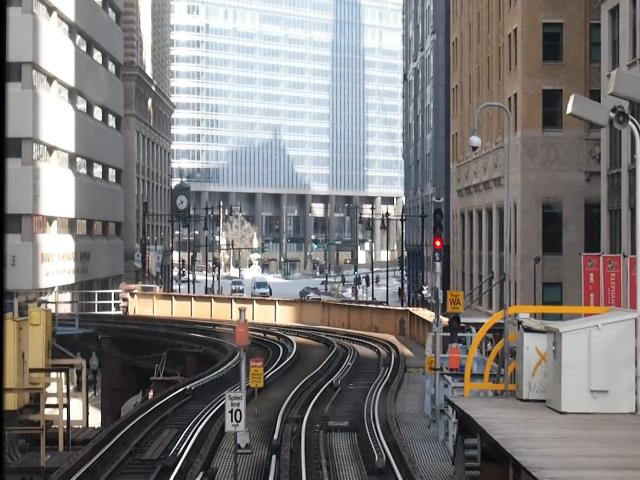signal light: (432, 206, 447, 266)
